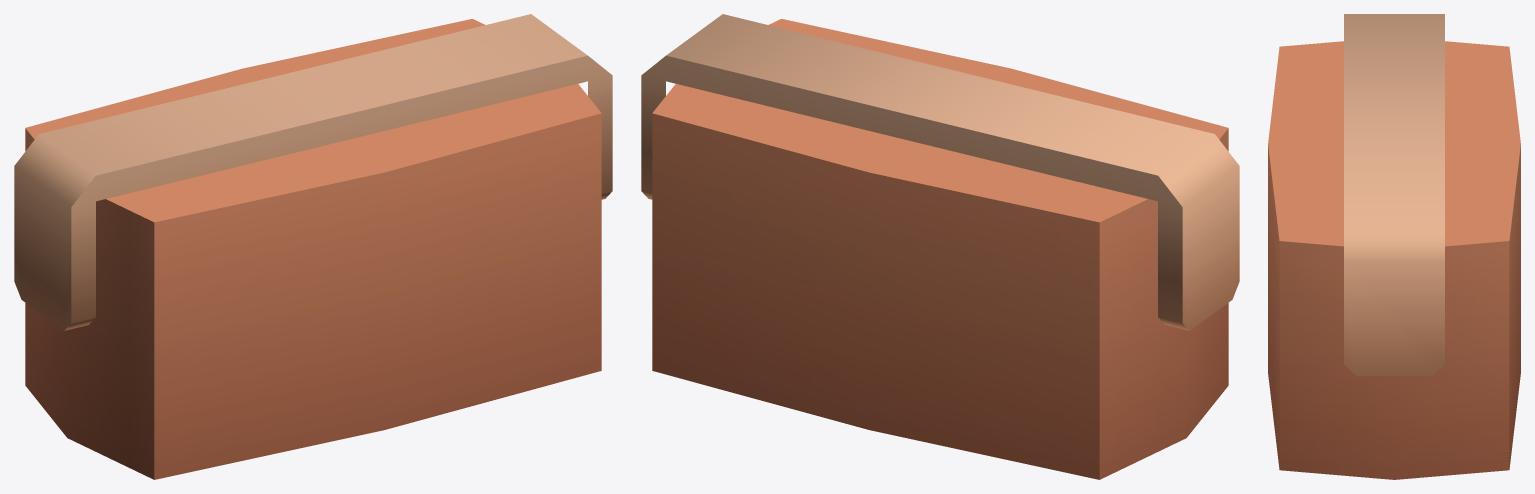
The model's file is kenney-conveyor-box-long.glb.
The picture shows the model from 3 angles, left to right: view 1: azimuth 30°, elevation 25°; view 2: azimuth 150°, elevation 25°; view 3: azimuth 270°, elevation 25°; orthographic projection. The views are drawn at different scales.
Parts seen in each view (by area): view 1: box-long; view 2: box-long; view 3: box-long.
Boxes of the visible parts, bbox=[...] form: box-long: bbox=[14, 14, 612, 479]; box-long: bbox=[641, 14, 1239, 479]; box-long: bbox=[1268, 14, 1520, 479].
Size of the model in its own units: 1.1 by 0.5501 by 0.5.
Materials: 1 (1 with a texture image).
